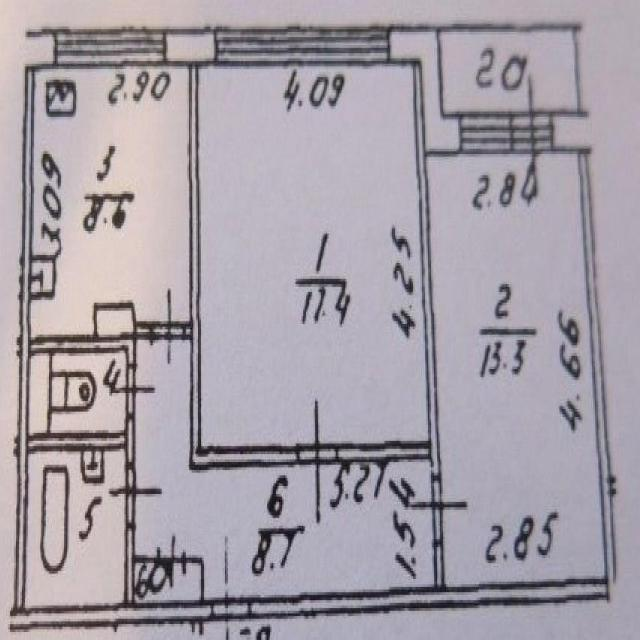Bathrooms: (29, 455, 123, 605), (31, 354, 124, 428)
Corridors: (135, 340, 434, 597), (440, 29, 578, 110), (135, 566, 200, 600)
Doors: (298, 395, 338, 527), (512, 73, 553, 176), (409, 477, 470, 546), (211, 536, 249, 640), (106, 463, 164, 528), (150, 284, 185, 368), (109, 366, 157, 417), (157, 534, 187, 588)
LBwalls: (390, 25, 460, 155), (165, 27, 214, 68), (552, 111, 594, 154), (93, 303, 136, 337), (24, 27, 53, 69)
Offices: (201, 67, 428, 443), (428, 157, 604, 584), (30, 71, 188, 334)
Walls: (250, 153, 617, 620), (7, 70, 211, 637), (183, 70, 299, 471), (338, 63, 441, 478), (187, 555, 204, 601), (124, 529, 134, 601), (133, 554, 156, 564)
Windows: (214, 25, 389, 65), (53, 27, 165, 69), (460, 114, 511, 153)
